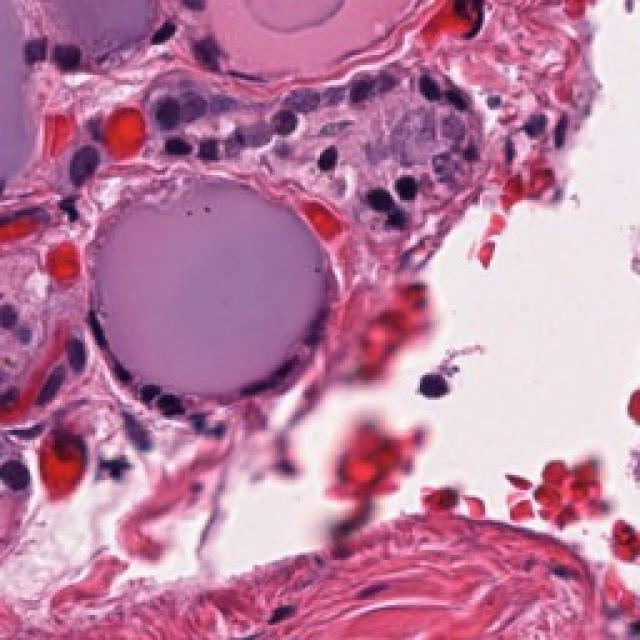normal: (374, 162, 445, 220), (57, 133, 114, 205), (53, 320, 102, 380), (278, 74, 330, 130), (153, 118, 197, 174), (99, 350, 144, 395), (147, 81, 187, 131), (407, 59, 443, 113), (157, 382, 199, 424), (191, 126, 233, 166)
